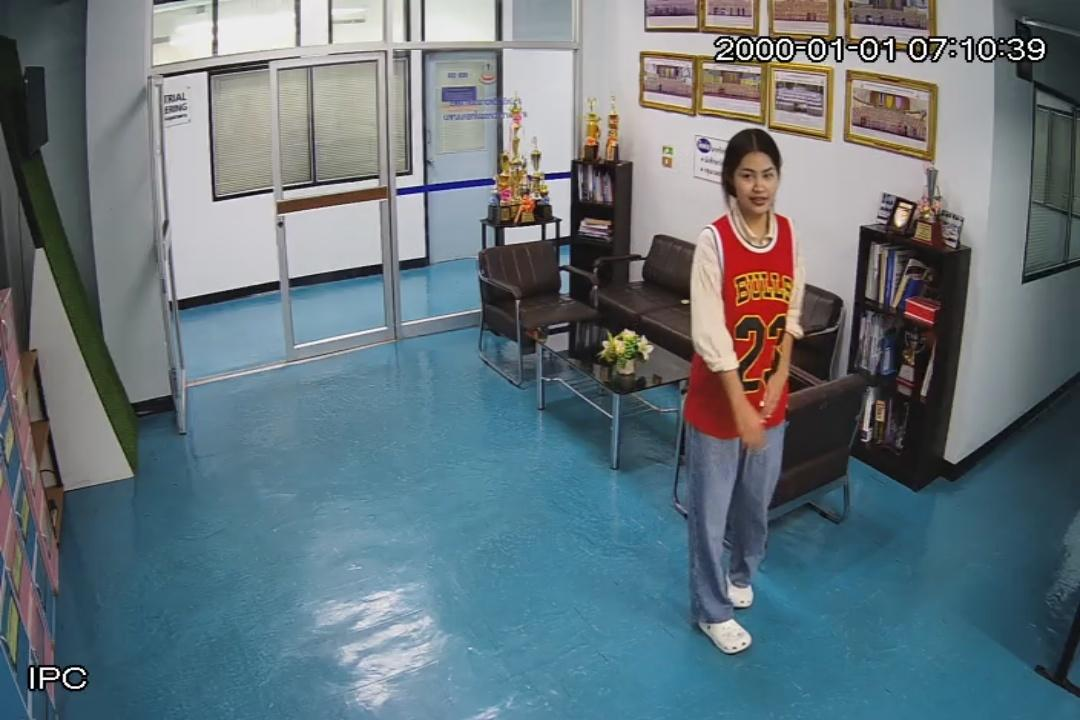normal: (687, 129, 808, 653)
